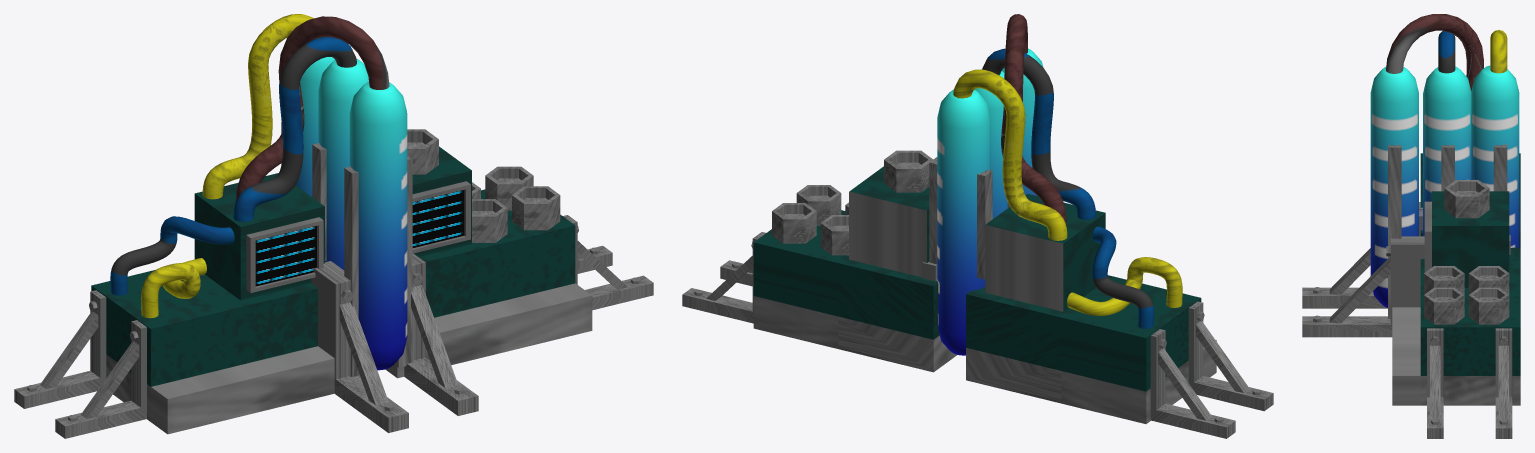
File: scrap 7.fbx
3 renders of one model, left to right at view 1: azimuth 30°, elevation 25°; view 2: azimuth 150°, elevation 25°; view 3: azimuth 270°, elevation 25°, orthographic. The views are drawn at different scales.
Parts seen in each view (by area): view 1: Cylinder.001; view 2: Cylinder.001; view 3: Cylinder.001.
Boxes of the visible parts, box(x1,y1,x2,y2) form: Cylinder.001: box(14, 14, 653, 438); Cylinder.001: box(682, 14, 1273, 438); Cylinder.001: box(1302, 14, 1520, 438).
Size of the model in its own units: 1323 by 756 by 506.
